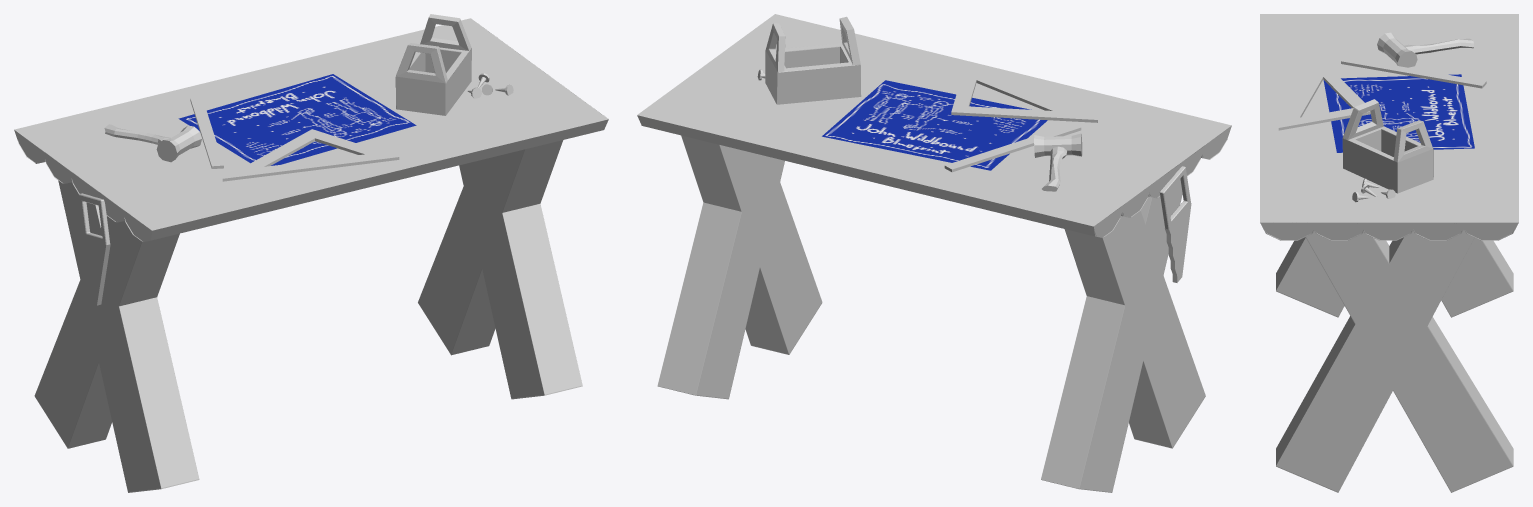
Rendered from workbench.fbx.
3 renders of one model, left to right at view 1: azimuth 30°, elevation 25°; view 2: azimuth 150°, elevation 25°; view 3: azimuth 270°, elevation 25°, orthographic. The views are drawn at different scales.
Visible parts, largest first — view 1: WoodDark.001, Blueprint, WoodDark, ToolsYellow, ToolsMetal; view 2: WoodDark.001, Blueprint, WoodDark, ToolsYellow, ToolsMetal; view 3: WoodDark.001, Blueprint, ToolsYellow, ToolsMetal, WoodDark.
Boxes of the visible parts, x1,y1,x2,y2 form: WoodDark.001: (14,14,608,492); Blueprint: (178,74,416,165); WoodDark: (18,119,608,245); ToolsYellow: (190,97,399,181); ToolsMetal: (84,73,513,305); WoodDark.001: (637,14,1231,492); Blueprint: (822,80,1047,170); WoodDark: (637,115,1227,237); ToolsYellow: (944,66,1097,172); ToolsMetal: (757,69,1191,282); WoodDark.001: (1260,14,1518,492); Blueprint: (1323,74,1474,152); ToolsYellow: (1278,57,1486,130); ToolsMetal: (1352,32,1417,202); WoodDark: (1266,38,1512,240).
Bounding box in the file's own units: 360 × 270 × 187.
